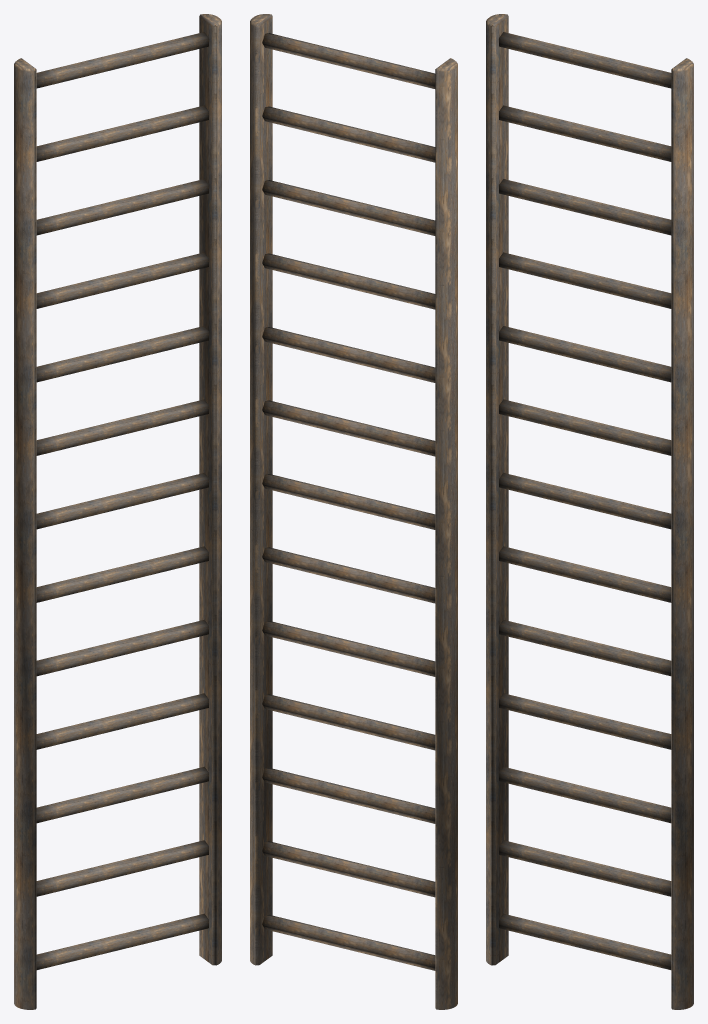
File: ladder.glb
3 views of the same model, side by side, from view 1: azimuth 30°, elevation 25°; view 2: azimuth 150°, elevation 25°; view 3: azimuth 330°, elevation 25° (orthographic).
Visible parts, largest first — view 1: Cylinder, Cylinder.004, Cylinder.006, Cylinder.013, Cylinder.002, Cylinder.008, Cylinder.010, Cylinder.011, Cylinder.012, Cylinder.001, Cylinder.003, Cylinder.005 (+2 smaller); view 2: Cylinder, Cylinder.002, Cylinder.004, Cylinder.006, Cylinder.007, Cylinder.008, Cylinder.009, Cylinder.010, Cylinder.011, Cylinder.001, Cylinder.003, Cylinder.012 (+2 smaller); view 3: Cylinder, Cylinder.004, Cylinder.006, Cylinder.002, Cylinder.008, Cylinder.013, Cylinder.010, Cylinder.011, Cylinder.012, Cylinder.001, Cylinder.003, Cylinder.009 (+2 smaller).
Part boxes in pixels (x1,y1,x2,y2): Cylinder: (14, 14, 221, 1009); Cylinder.004: (36, 693, 208, 749); Cylinder.006: (36, 546, 208, 602); Cylinder.013: (36, 32, 208, 88); Cylinder.002: (36, 840, 208, 896); Cylinder.008: (36, 399, 208, 455); Cylinder.010: (36, 252, 208, 308); Cylinder.011: (36, 179, 208, 235); Cylinder.012: (36, 105, 208, 161); Cylinder.001: (36, 913, 208, 969); Cylinder.003: (36, 766, 208, 823); Cylinder.005: (36, 619, 208, 676); Cylinder: (250, 14, 457, 1009); Cylinder.002: (262, 841, 435, 897); Cylinder.004: (262, 694, 435, 750); Cylinder.006: (262, 547, 435, 603); Cylinder.007: (262, 474, 435, 529); Cylinder.008: (262, 400, 435, 456); Cylinder.009: (262, 327, 435, 382); Cylinder.010: (262, 253, 435, 309); Cylinder.011: (262, 180, 435, 235); Cylinder.001: (262, 915, 435, 970); Cylinder.003: (262, 768, 435, 823); Cylinder.012: (262, 106, 435, 162); Cylinder: (486, 14, 693, 1009); Cylinder.004: (499, 693, 671, 749); Cylinder.006: (499, 546, 671, 602); Cylinder.002: (499, 840, 671, 896); Cylinder.008: (499, 399, 671, 455); Cylinder.013: (499, 32, 671, 88); Cylinder.010: (499, 252, 671, 308); Cylinder.011: (499, 179, 671, 235); Cylinder.012: (499, 105, 671, 161); Cylinder.001: (499, 913, 671, 969); Cylinder.003: (499, 766, 671, 823); Cylinder.009: (499, 326, 671, 382).
Size of the model in its own units: 0.58 by 2.56 by 0.0786.
1 material, 1 textured.
